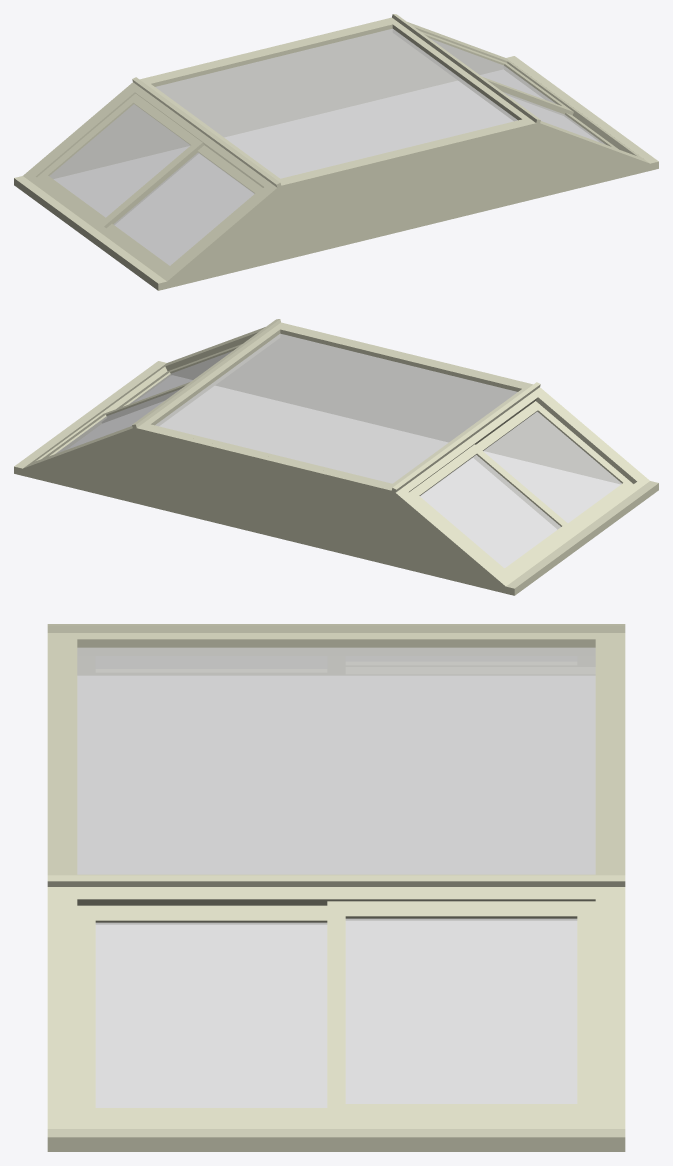
Rendered from Window_Specialty_Bay_30Degree_79.obj.
The picture shows the model from 3 angles, top to bottom: view 1: azimuth 30°, elevation 25°; view 2: azimuth 150°, elevation 25°; view 3: azimuth 270°, elevation 25°; orthographic projection. The views are drawn at different scales.
Visible parts, largest first — view 1: Mesh8 Model, Mesh7 Component_5_1 Model, Mesh2 Component_3_2 Component_4_1 Model, Mesh1 Component_3_1 Component_4_1 Model, Mesh3 Component_4_1 Model, Mesh5 Component_3_4 Component_4_2 Model, Mesh6 Component_4_2 Model, Mesh4 Component_3_3 Component_4_2 Model; view 2: Mesh8 Model, Mesh7 Component_5_1 Model, Mesh2 Component_3_2 Component_4_1 Model, Mesh1 Component_3_1 Component_4_1 Model, Mesh3 Component_4_1 Model, Mesh5 Component_3_4 Component_4_2 Model, Mesh6 Component_4_2 Model, Mesh4 Component_3_3 Component_4_2 Model; view 3: Mesh7 Component_5_1 Model, Mesh5 Component_3_4 Component_4_2 Model, Mesh4 Component_3_3 Component_4_2 Model, Mesh8 Model, Mesh6 Component_4_2 Model, Mesh1 Component_3_1 Component_4_1 Model, Mesh2 Component_3_2 Component_4_1 Model, Mesh3 Component_4_1 Model.
Boxes of the visible parts, x1,y1,x2,y2 form: Mesh8 Model: (14,14,658,290); Mesh7 Component_5_1 Model: (143,20,531,182); Mesh2 Component_3_2 Component_4_1 Model: (37,93,203,228); Mesh1 Component_3_1 Component_4_1 Model: (106,145,262,271); Mesh3 Component_4_1 Model: (26,85,273,278); Mesh5 Component_3_4 Component_4_2 Model: (420,31,573,115); Mesh6 Component_4_2 Model: (411,24,645,160); Mesh4 Component_3_3 Component_4_2 Model: (498,88,618,149); Mesh8 Model: (14,319,658,595); Mesh7 Component_5_1 Model: (141,325,529,487); Mesh2 Component_3_2 Component_4_1 Model: (409,444,573,576); Mesh1 Component_3_1 Component_4_1 Model: (474,401,633,528); Mesh3 Component_4_1 Model: (399,390,646,583); Mesh5 Component_3_4 Component_4_2 Model: (42,382,189,458); Mesh6 Component_4_2 Model: (27,329,261,465); Mesh4 Component_3_3 Component_4_2 Model: (102,344,241,422); Mesh7 Component_5_1 Model: (62,633,610,875); Mesh5 Component_3_4 Component_4_2 Model: (327,901,595,1116); Mesh4 Component_3_3 Component_4_2 Model: (77,905,327,1116); Mesh8 Model: (47,624,625,1151); Mesh6 Component_4_2 Model: (62,887,610,1128); Mesh1 Component_3_1 Component_4_1 Model: (78,656,344,673); Mesh2 Component_3_2 Component_4_1 Model: (346,656,594,666); Mesh3 Component_4_1 Model: (345,667,594,674).
Bounding box in the file's own units: 78.58 × 11.82 × 39.25.
